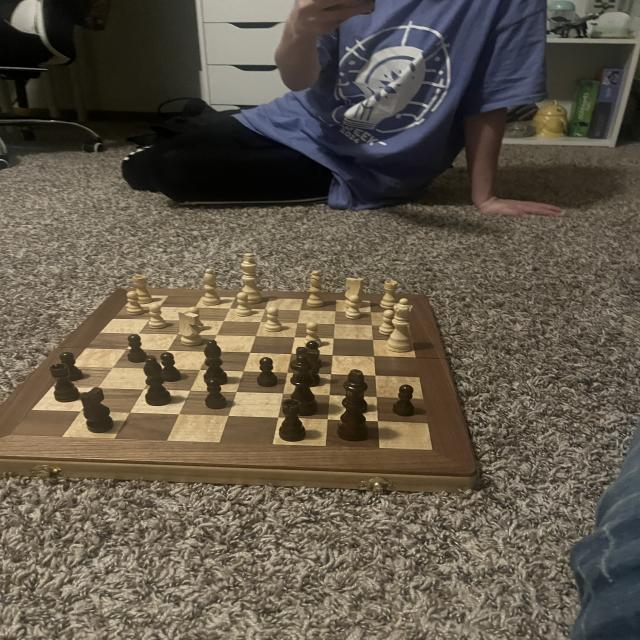bishop: (140, 354, 174, 408), (200, 336, 230, 387)
black-bishop: (333, 368, 373, 444)
black-king: (79, 386, 118, 434), (296, 346, 322, 387)
black-knight: (390, 382, 422, 420), (156, 350, 185, 384), (58, 350, 86, 383), (257, 356, 284, 388), (202, 378, 227, 412), (125, 334, 149, 364), (302, 339, 324, 365)
black-pawn: (288, 354, 322, 420)
black-queen: (46, 359, 82, 403), (277, 399, 310, 443)
black-rook: (303, 269, 327, 310), (202, 266, 222, 308)
white-bishop: (232, 253, 266, 304)
white-king: (176, 308, 206, 347), (342, 275, 366, 309)
white-knight: (376, 308, 402, 338), (301, 321, 324, 351), (262, 306, 286, 334), (343, 294, 367, 320), (123, 291, 146, 318), (147, 302, 169, 330), (184, 306, 206, 332), (234, 291, 253, 319)
white-pawn: (384, 296, 418, 356)
white-queen: (377, 277, 402, 314), (131, 273, 154, 305)
